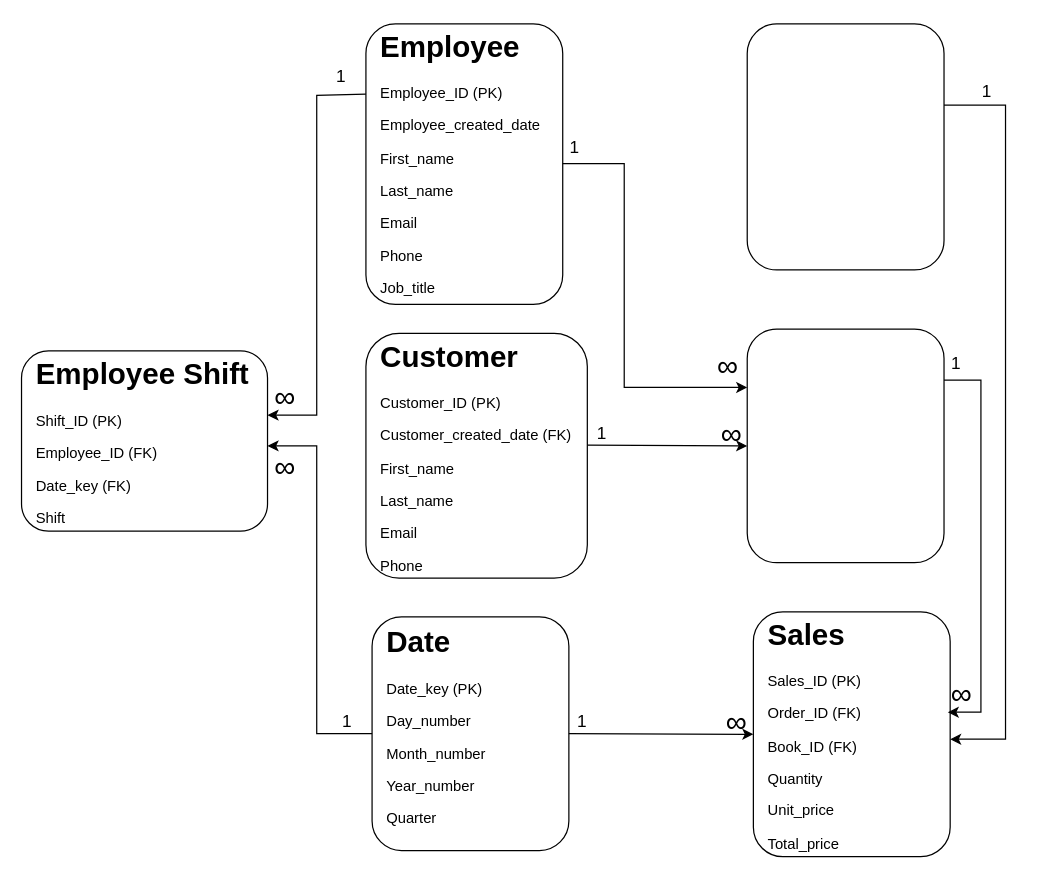
Image size: 1046x893. Some labels were removed from this diagram. The shapes that lost their labels are listed below. From the top down, each one's centre as x and y in pixels, then its label:
(845,146): Book Book_ID (PK) ISBN Title Author List_price Stock_quantity
(845,445): Order Order_ID (PK) Order_date Customer_ID Employee_ID Total_amount
